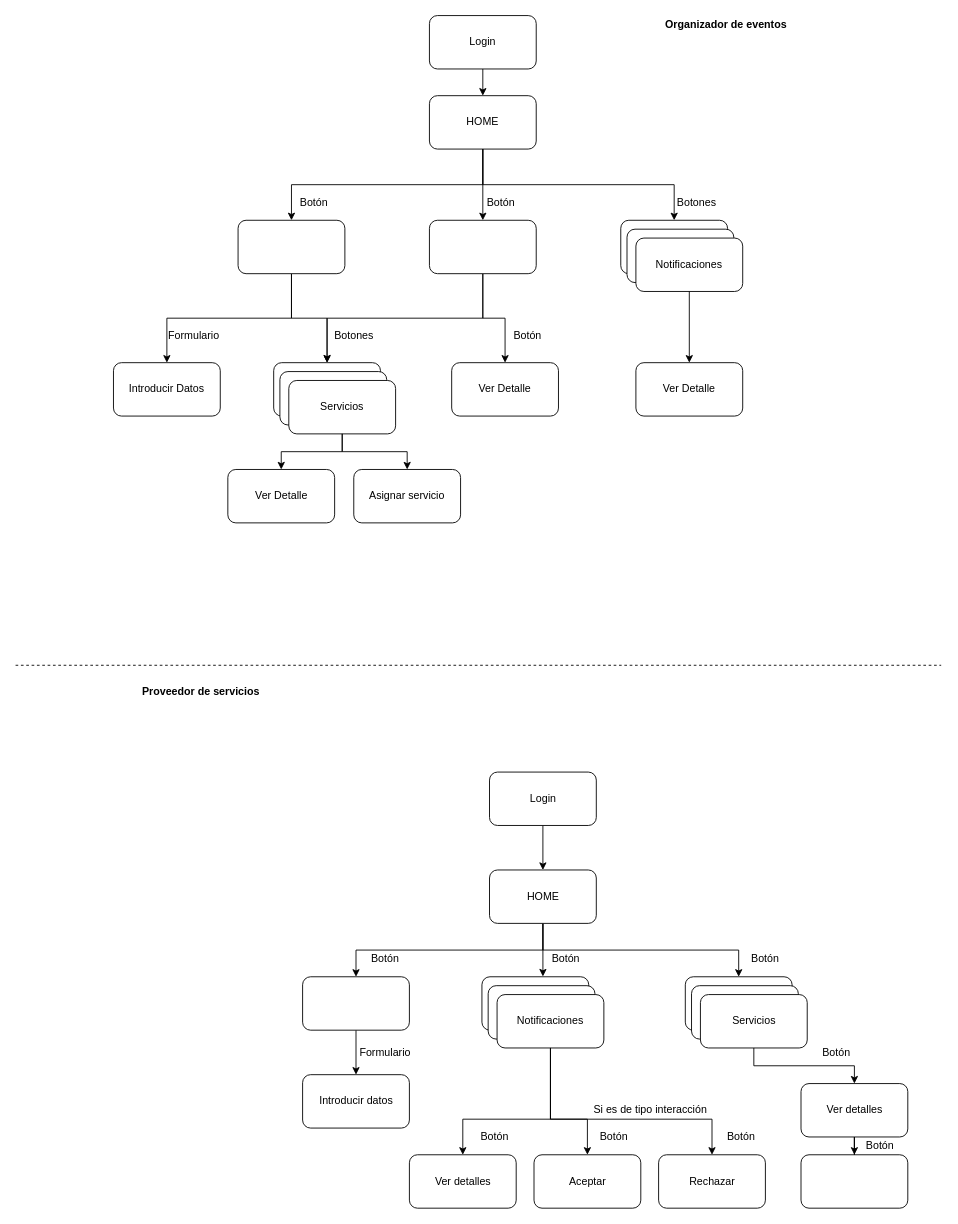
Image size: 958x1224. Some labels were removed from this diagram. Each missing label, with the centre of its shape:
"Añadir" belongs at (355,1003).
"Añadir Evento" belongs at (291,246).
"Editar" belongs at (854,1181).
"Item Evento" belongs at (482,246).
